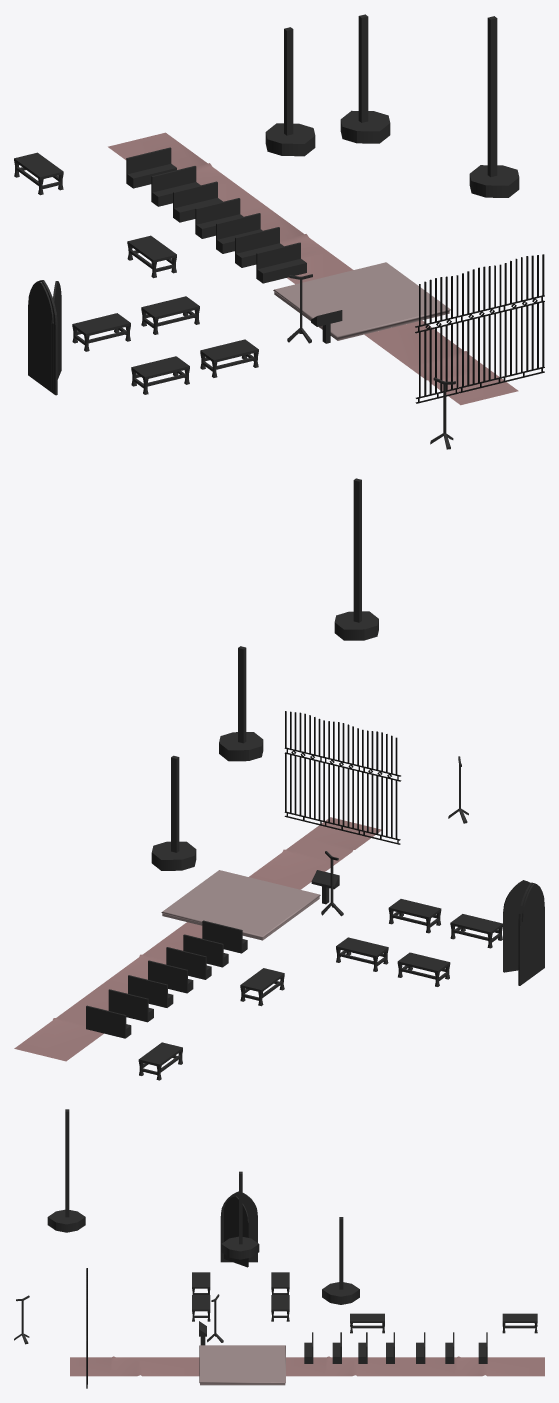
File: Ass.FBX
3 renders of one model, top to bottom at view 1: azimuth 30°, elevation 25°; view 2: azimuth 150°, elevation 25°; view 3: azimuth 270°, elevation 25°, orthographic. The views are drawn at different scales.
Parts seen in each view (by area): view 1: Box132, Box131, Object374, Object372, Object373, Object369, Box126, Box114, Box122, Box124, Box127, Box108 (+15 smaller); view 2: Box132, Box131, Object374, Object372, Object369, Object373, Object371, Box126, Box122, Box124, Box127, Box108 (+14 smaller); view 3: Box131, Object374, Object372, Object373, Object371, Box124, Box127, Box122, Box121, Box126, Box120, Object369 (+6 smaller).
Boxes of the visible parts, x1,y1,x2,y2 form: Box132: (415,254,544,403); Box131: (273,262,450,340); Object374: (364,320,518,405); Object372: (108,132,261,208); Object373: (240,203,353,284); Object369: (28,282,53,390); Box126: (487,16,497,177); Box114: (256,242,306,283); Box122: (265,123,315,156); Box124: (340,110,390,143); Box127: (469,165,519,197); Box108: (126,147,176,188); Box132: (284,711,401,844); Box131: (161,870,320,940); Object374: (249,817,381,889); Object372: (14,985,127,1061); Object369: (521,884,544,981); Object373: (101,922,202,991); Object371: (503,880,544,972); Box126: (353,478,361,622); Box122: (151,841,196,870); Box124: (219,732,263,761); Box127: (334,611,378,640); Box108: (86,1005,131,1038); Box131: (199,1345,285,1385); Object374: (70,1356,199,1376); Object372: (415,1356,544,1376); Object373: (286,1356,414,1376); Object371: (224,1196,248,1267); Box124: (221,1236,259,1259); Box127: (47,1209,85,1232); Box122: (322,1282,359,1304); Box121: (502,1313,537,1333); Box126: (65,1109,69,1217); Box120: (350,1313,384,1333); Object369: (223,1193,255,1258).
Bounding box in the file's own units: 59.49 × 55.66 × 104.
